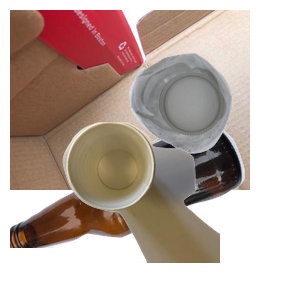cardboard: (10, 10, 250, 190)
glass: (10, 120, 247, 300)
plastic: (127, 51, 300, 197)
trash: (60, 120, 300, 300)
